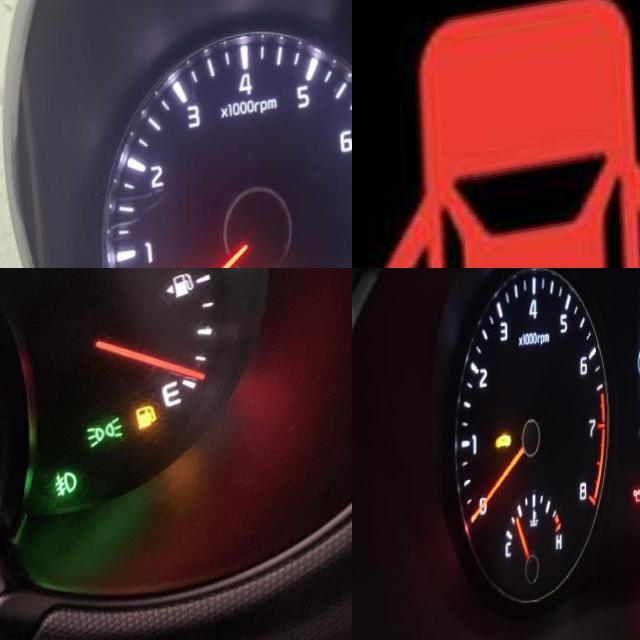FrontFogLight: (53, 474, 78, 504)
Low fuel level: (134, 412, 157, 439)
SideLamp: (85, 422, 123, 456)
